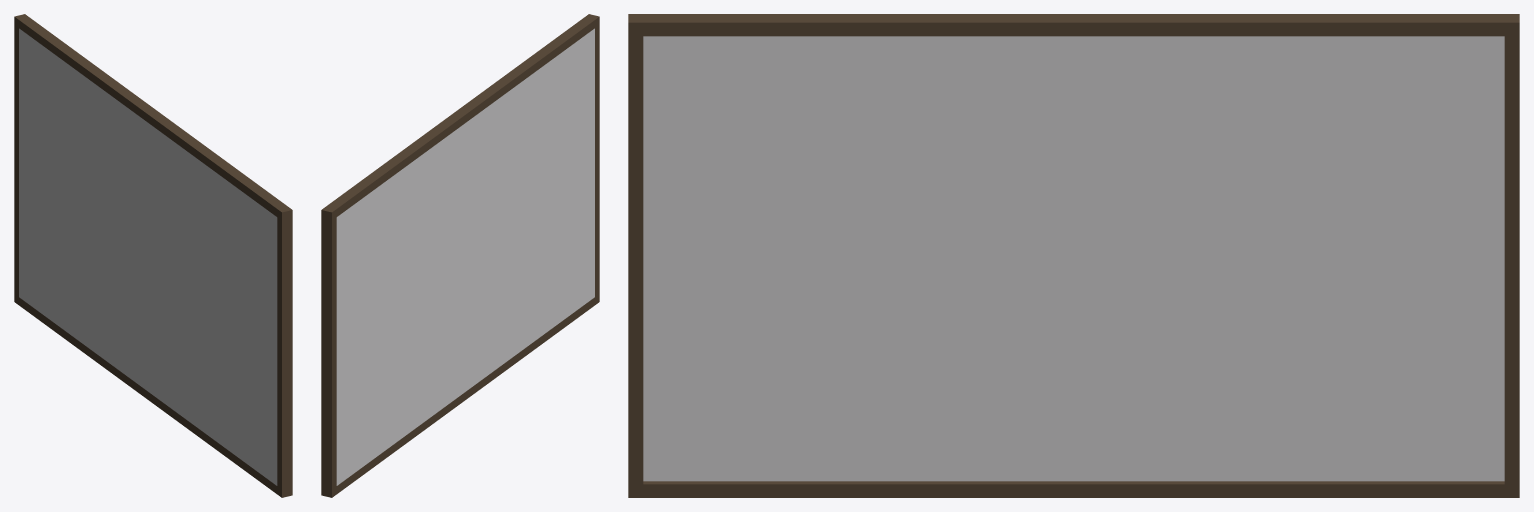
File: SM_gunShopBoard_01.glb
The picture shows the model from 3 angles, left to right: view 1: azimuth 30°, elevation 25°; view 2: azimuth 150°, elevation 25°; view 3: azimuth 270°, elevation 25°; orthographic projection. The views are drawn at different scales.
Visible parts, largest first — view 1: SM_gunShopBoard_01; view 2: SM_gunShopBoard_01; view 3: SM_gunShopBoard_01.
Boxes of the visible parts, x1,y1,x2,y2 form: SM_gunShopBoard_01: [14, 14, 292, 497]; SM_gunShopBoard_01: [321, 14, 599, 497]; SM_gunShopBoard_01: [628, 14, 1519, 497].
Bounding box in the file's own units: 0.0457 × 1.18 × 2.
Materials: 1 (1 with a texture image).
